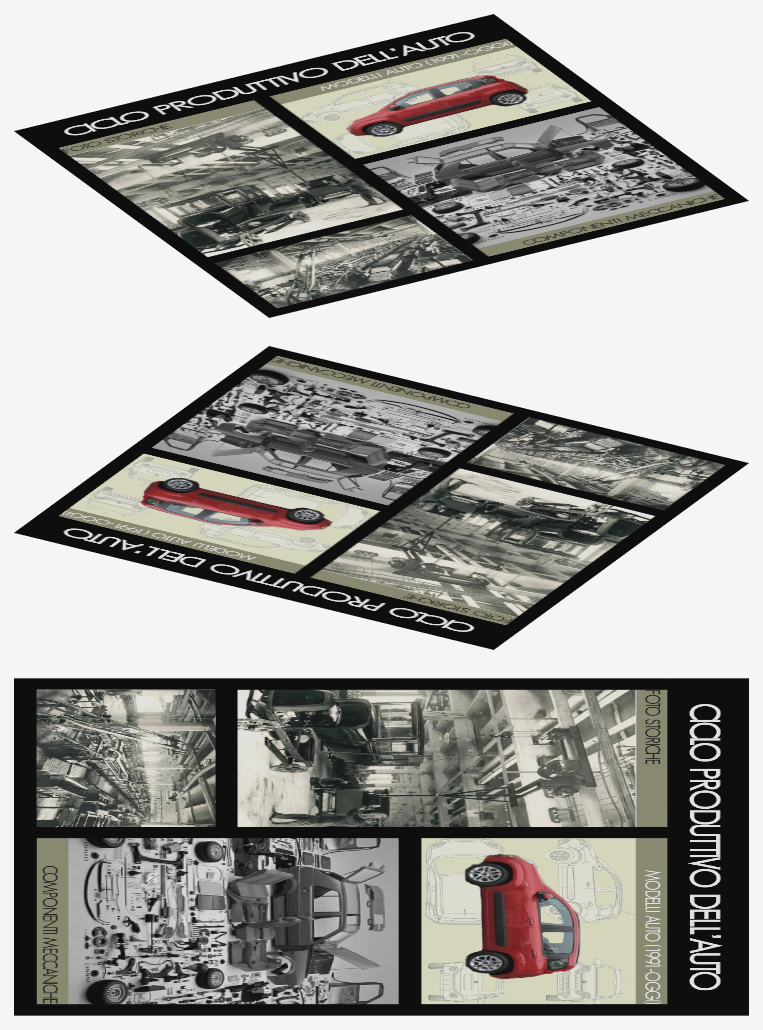
The model's file is piano3.obj.
3 views of the same model, one above another, from view 1: azimuth 30°, elevation 25°; view 2: azimuth 150°, elevation 25°; view 3: azimuth 270°, elevation 25° (orthographic). The views are drawn at different scales.
Parts seen in each view (by area): view 1: Plane001; view 2: Plane001; view 3: Plane001.
Part boxes in pixels (box(x1,y1,x2,y2)): Plane001: box(14, 14, 748, 317); Plane001: box(14, 346, 748, 649); Plane001: box(14, 678, 748, 1015).
Size of the model in its own units: 14.96 by 0 by 13.78.
